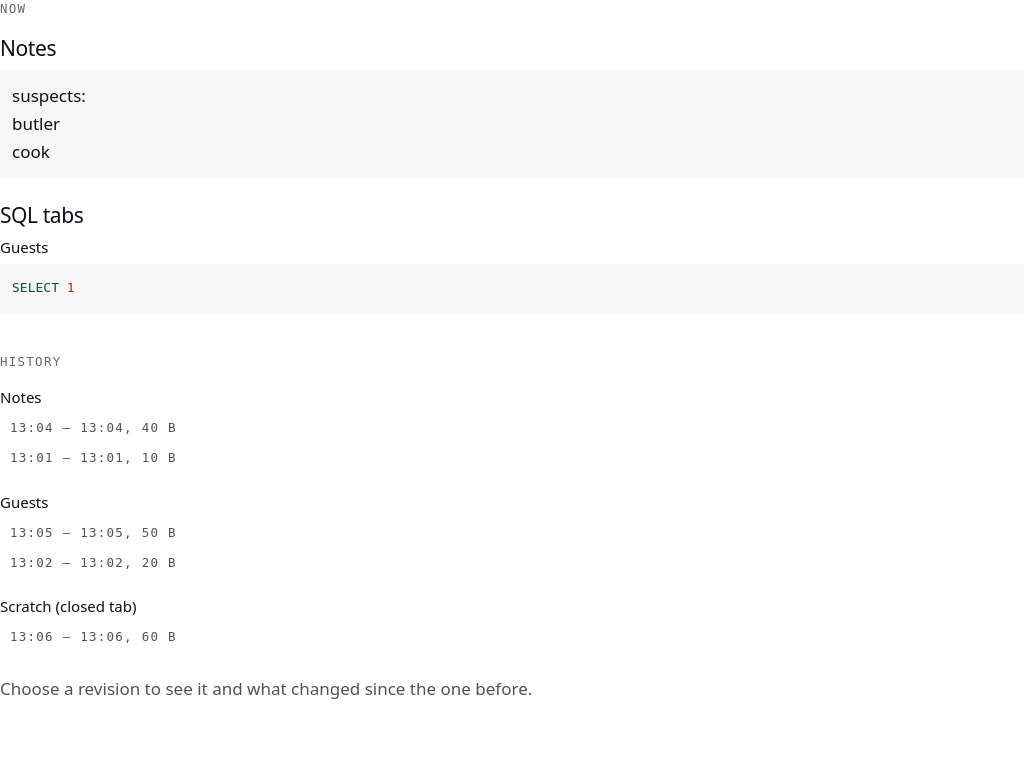
Test: the history › a revision identical to the previous says so
Click the button "13:05 – 13:05, 50 B" at (93, 532), box [0, 520, 1023, 547]
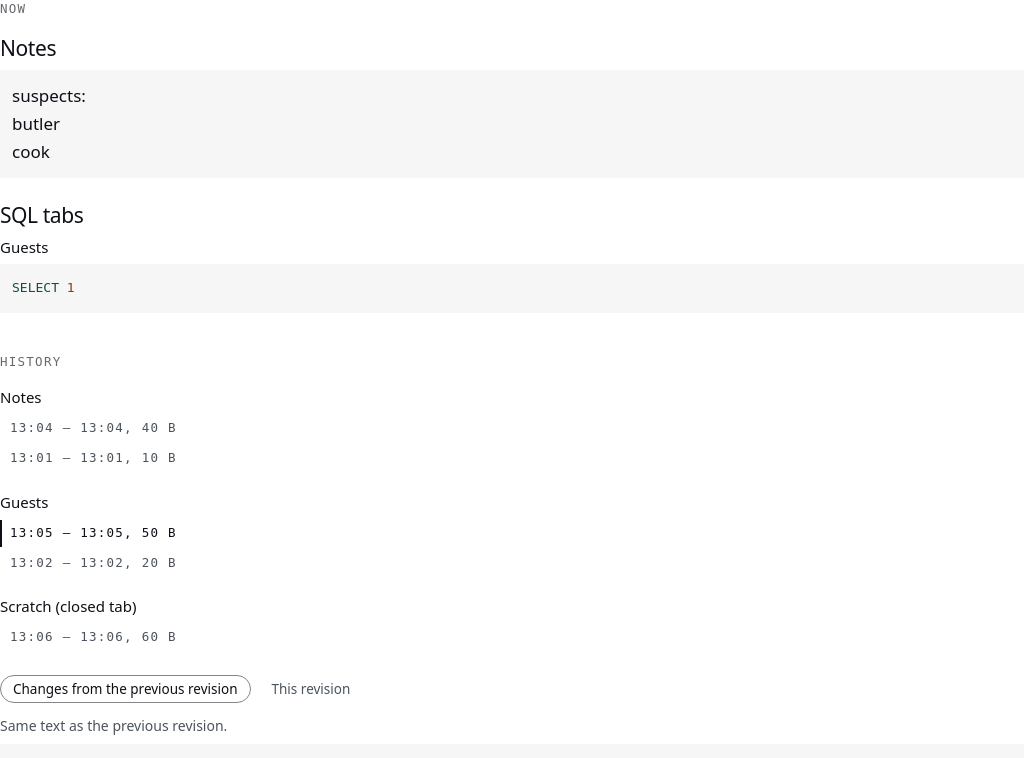
Expected: the text "Same text as the previous revision." is shown, [0, 715, 227, 736]
